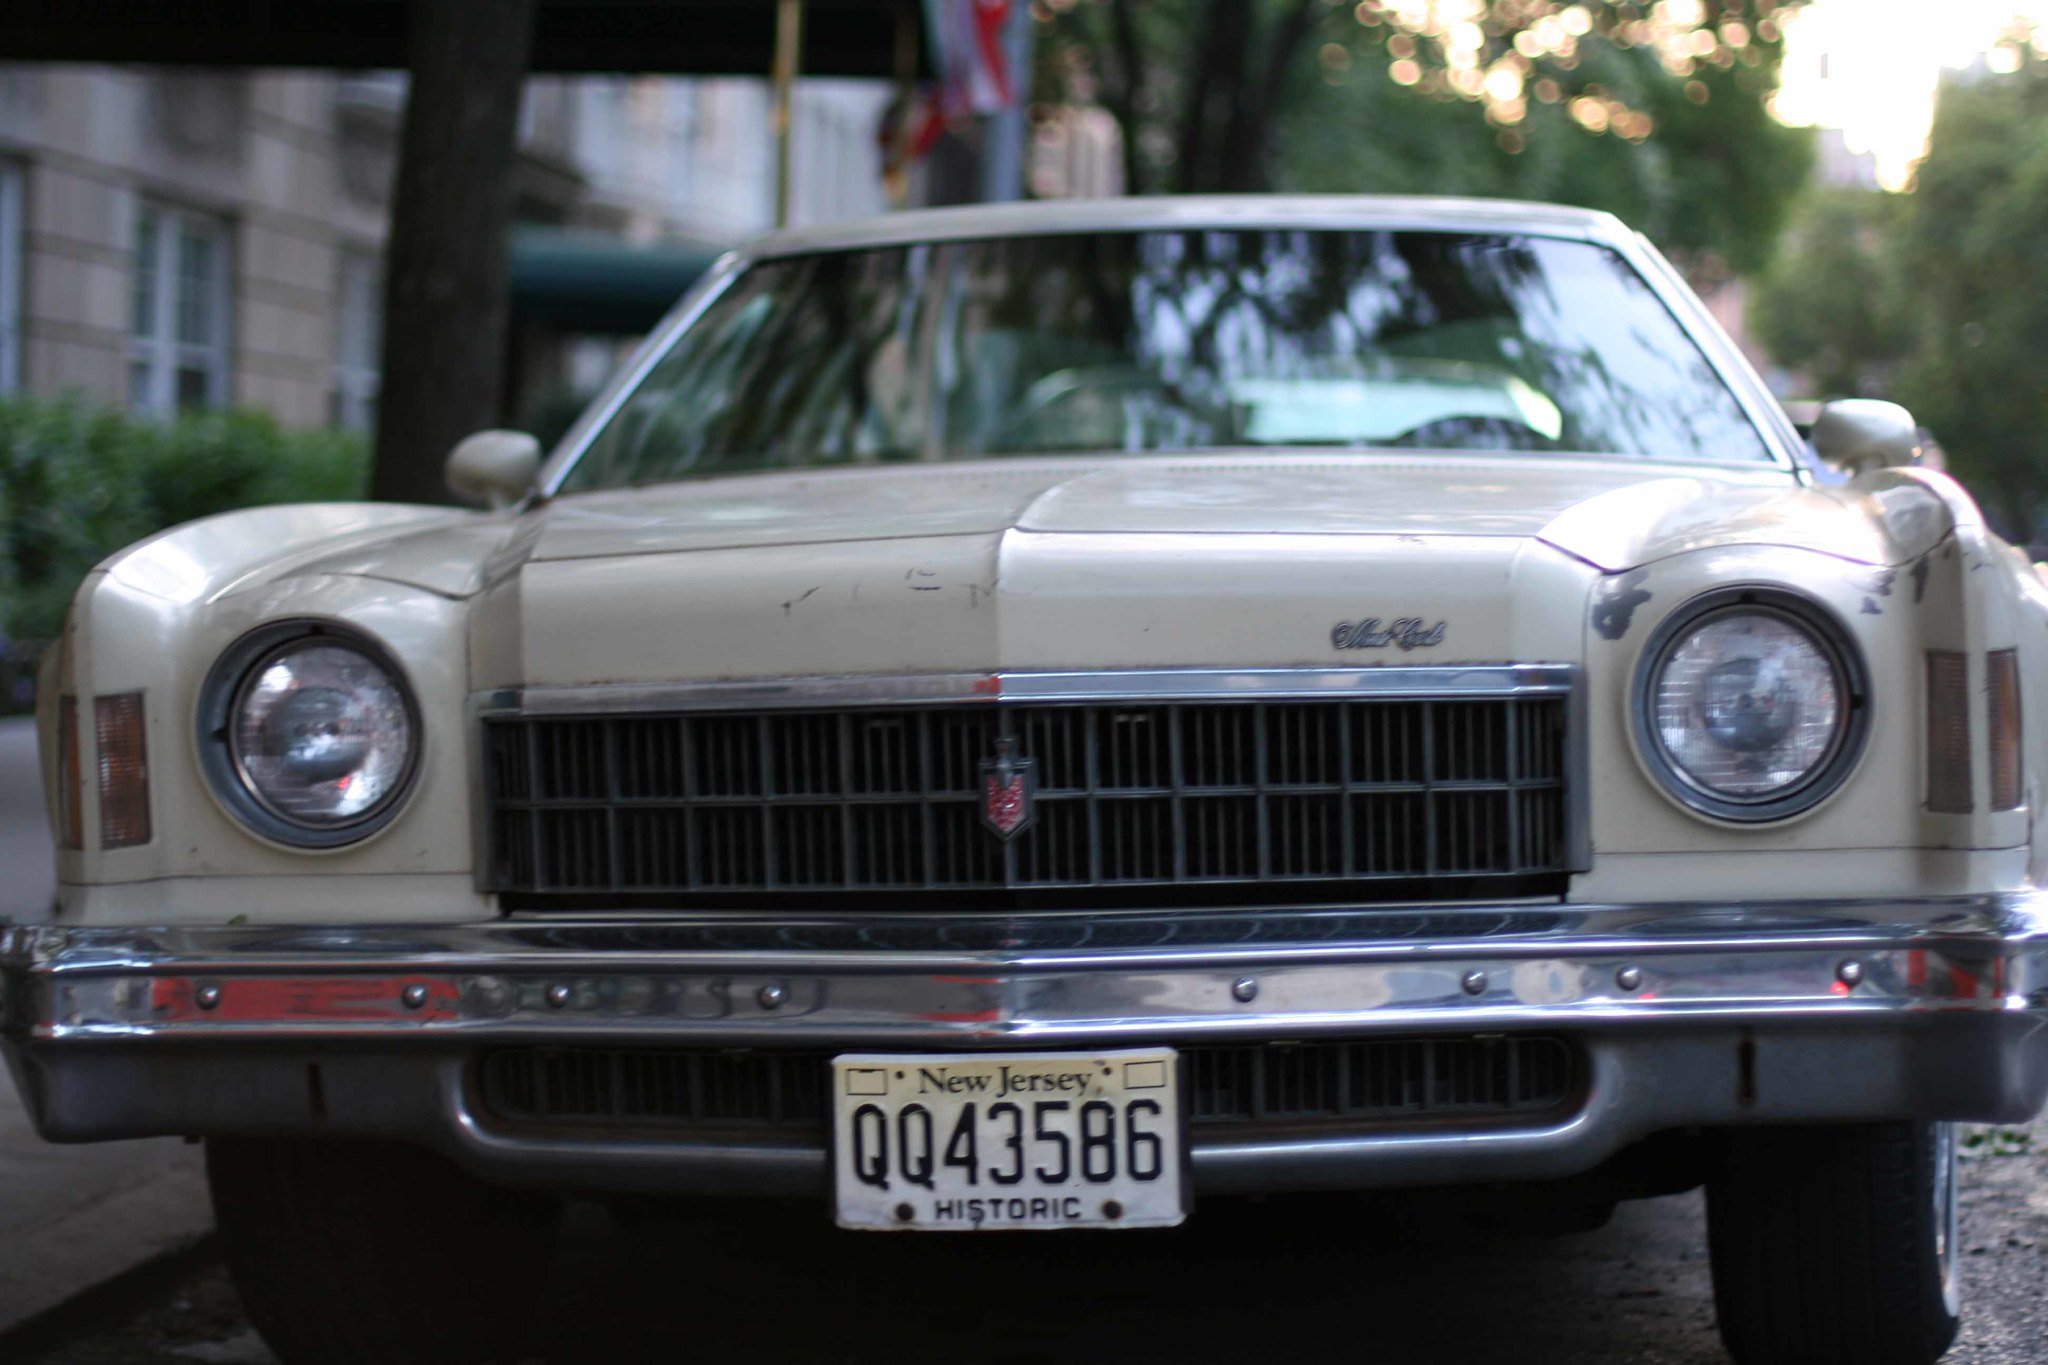car: (8, 117, 2048, 1357)
